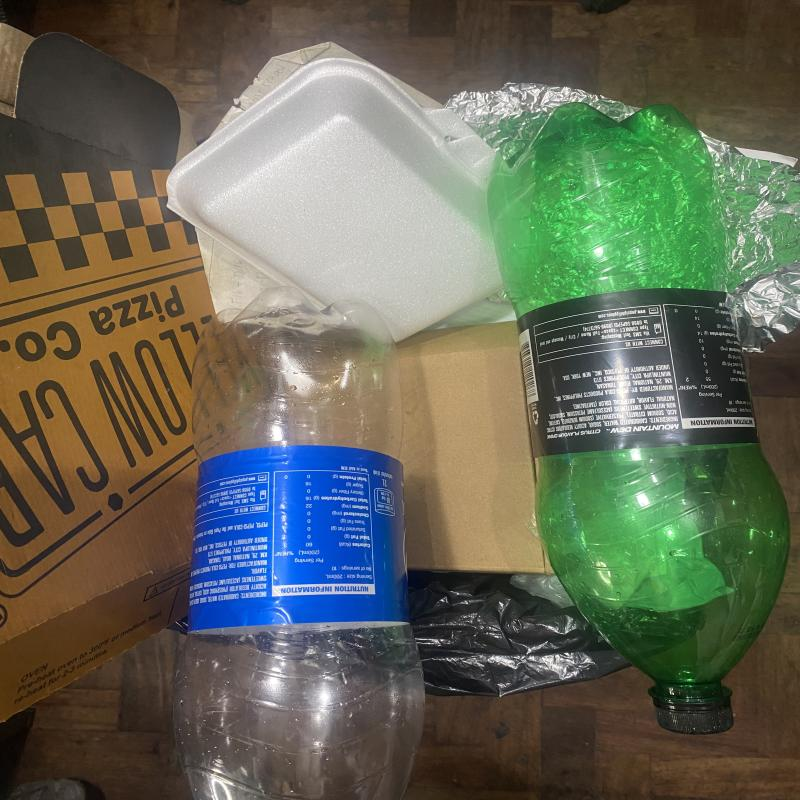cardboard: (0, 21, 216, 723)
plastic bottle: (488, 103, 790, 737), (175, 287, 427, 800)
styrofoam containers: (166, 58, 504, 344)
